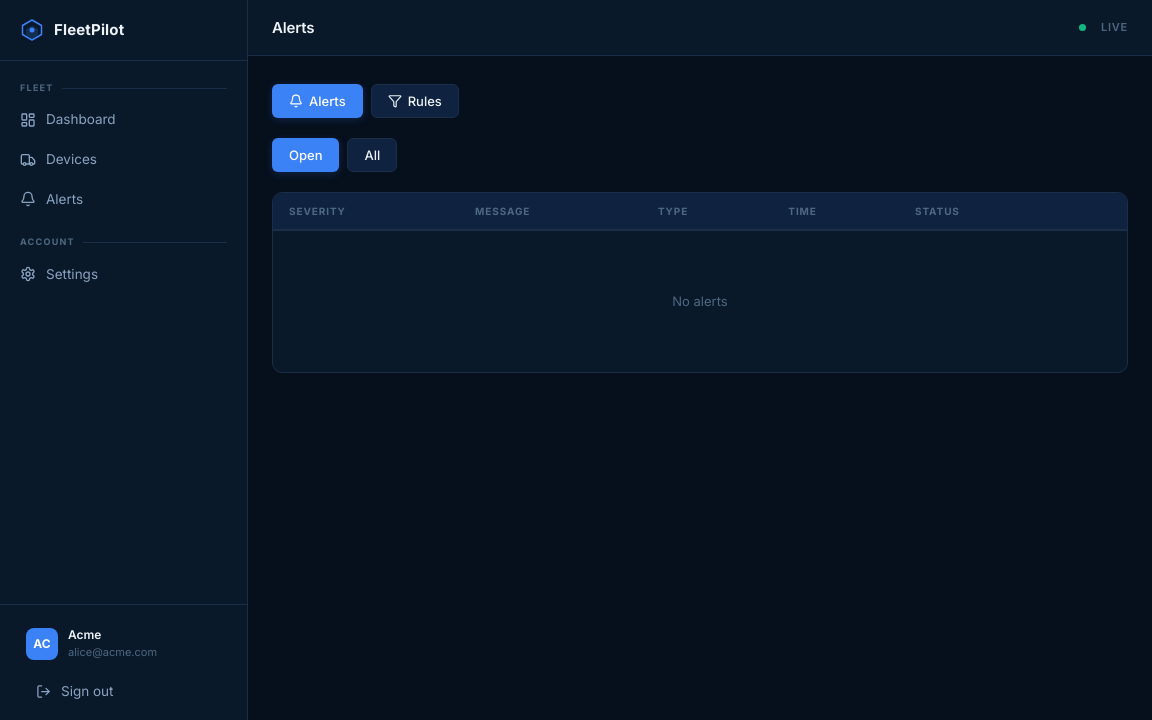
Test: Alerts › switches to All filter and shows acknowledged alerts too
The image size is (1152, 720).
Step 1. Click the button "All" → (372, 155), box top-left (348, 138), bottom-right (397, 172)
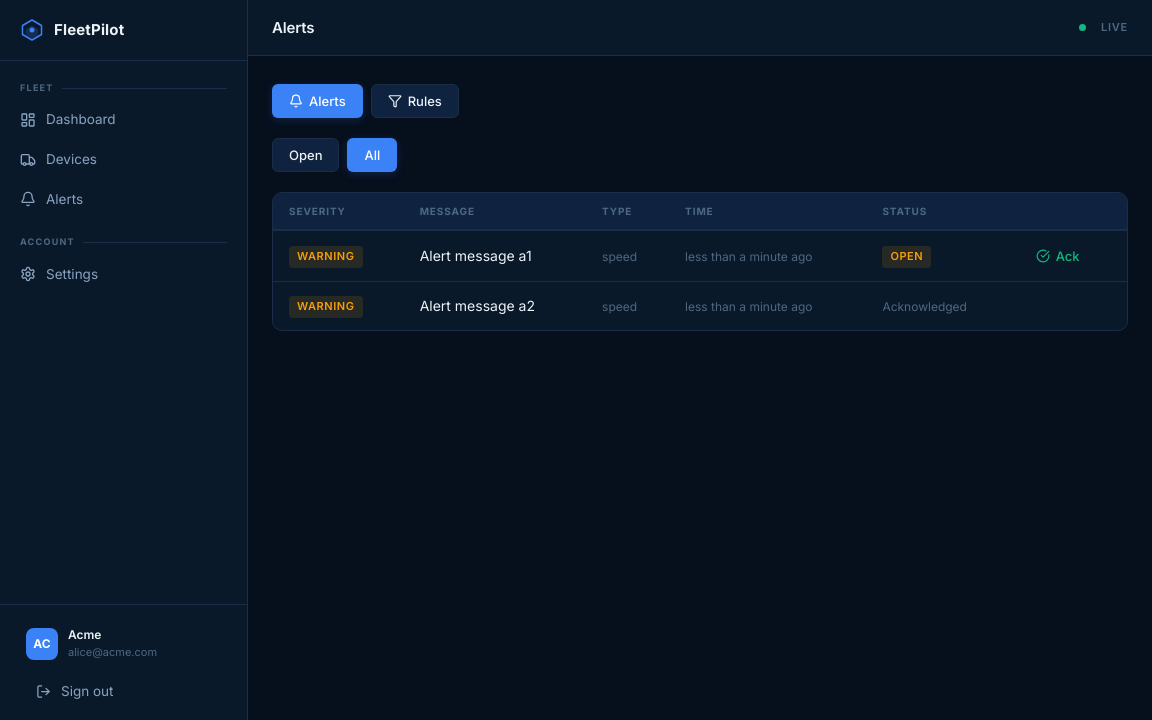
Expected: the text "Alert message a1" is shown, top-left (404, 230), bottom-right (586, 282)
Expected: the text "Alert message a2" is shown, top-left (404, 282), bottom-right (586, 330)
Expected: the text "Acknowledged" is shown, top-left (882, 299), bottom-right (967, 314)
